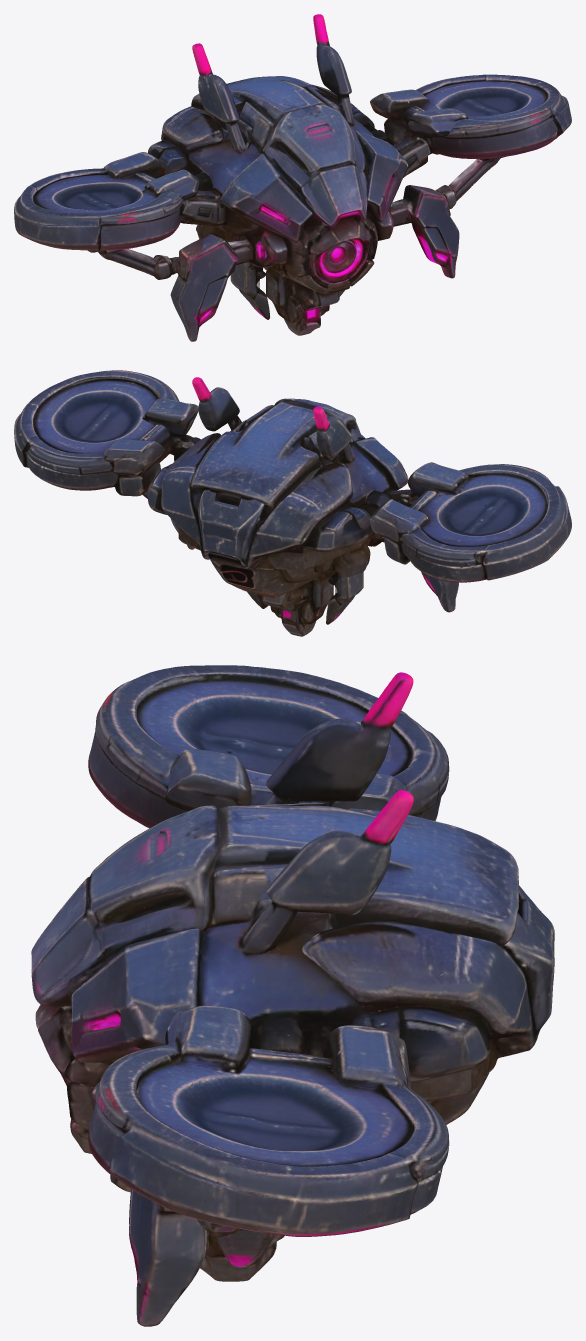
File: drone.glb
3 renders of one model, top to bottom at view 1: azimuth 30°, elevation 25°; view 2: azimuth 150°, elevation 25°; view 3: azimuth 270°, elevation 25°, orthographic. The views are drawn at different scales.
Visible parts, largest first — view 1: world; view 2: world; view 3: world.
Part boxes in pixels (left/top/right/bottom): world: left=14, top=14, right=571, bottom=341; world: left=14, top=370, right=571, bottom=636; world: left=31, top=665, right=554, bottom=1326.
Size of the model in its own units: 1.99 by 0.9759 by 0.8512.
1 material, 1 textured.
